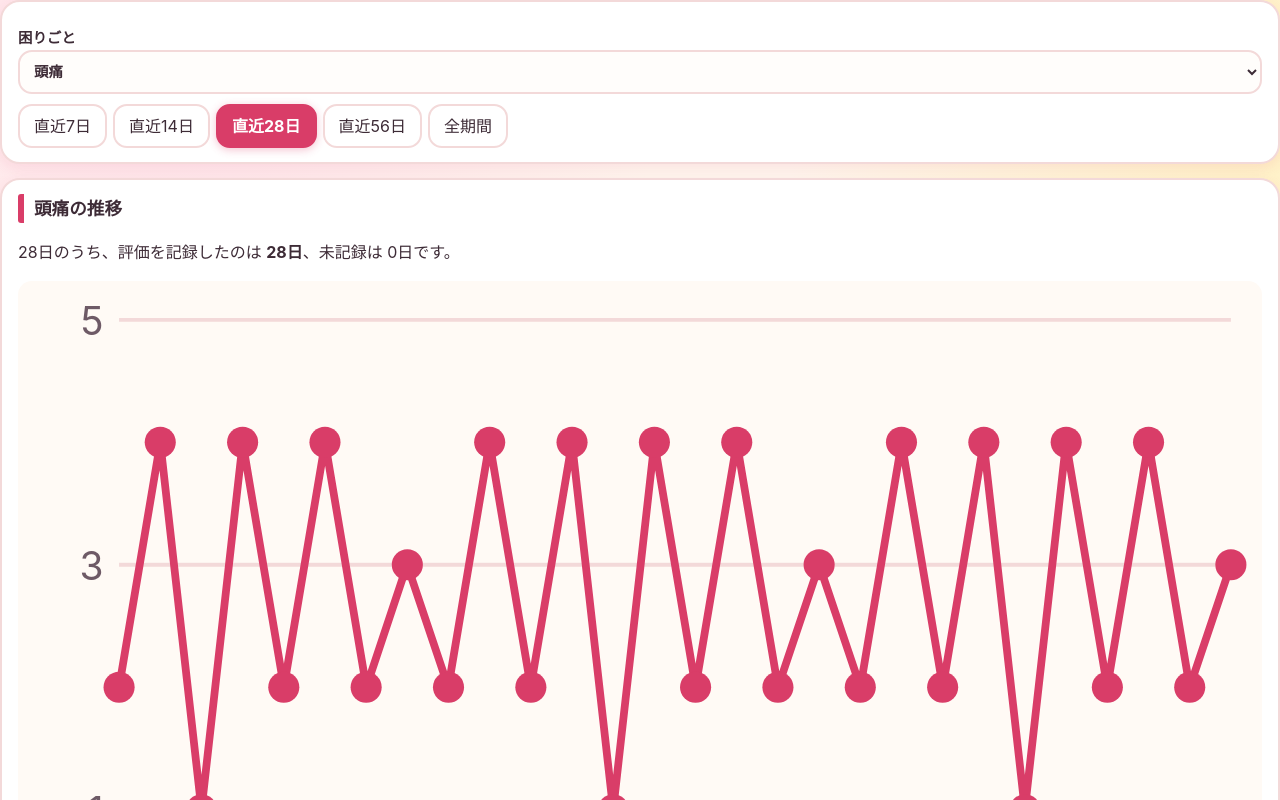
Test: ふりかえり: 関連がありそうな要因 › 「全期間」を選ぶと、最初の記録の日から今日までを対象にする
Click the radio button labelled "全期間" at (468, 126), box [428,104,508,148]
(page scrolled)
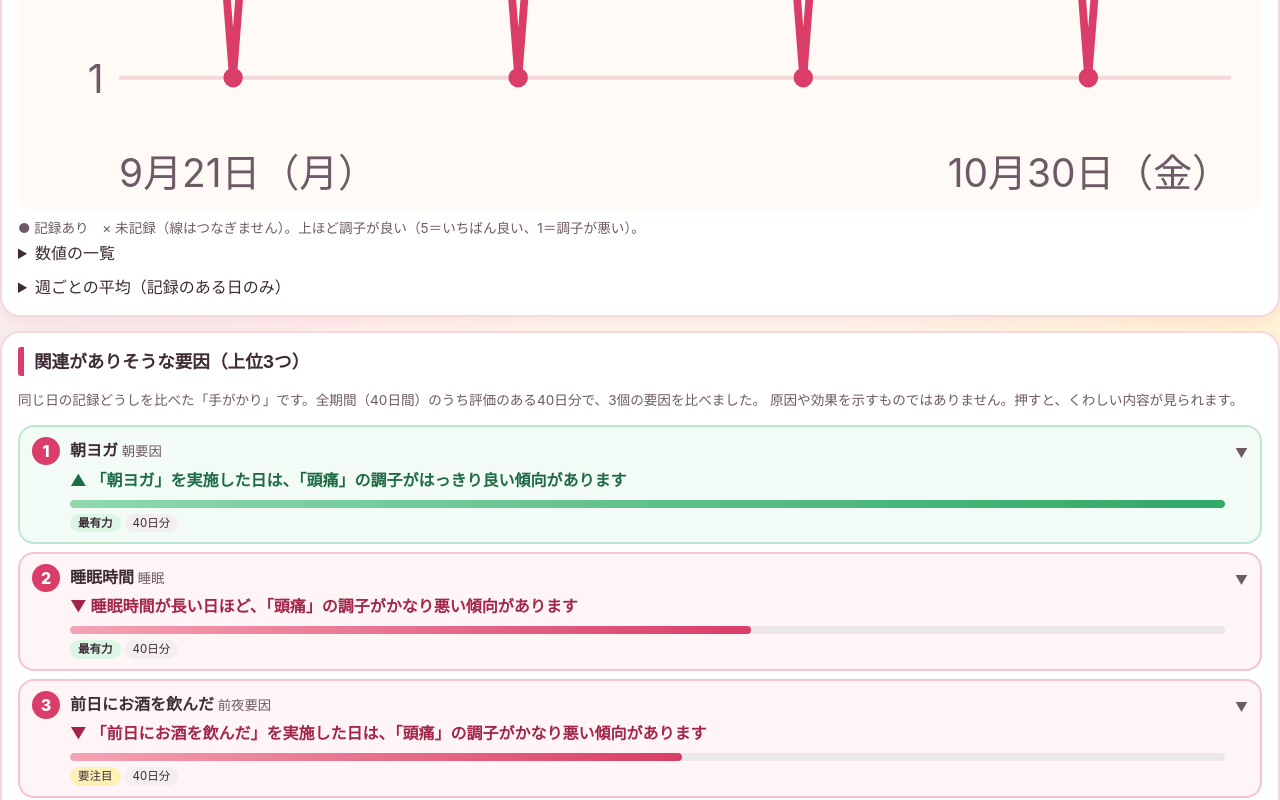
Now the text "全期間（40日間）のうち評価のある40日分" is shown, box [18,389,1262,412]
